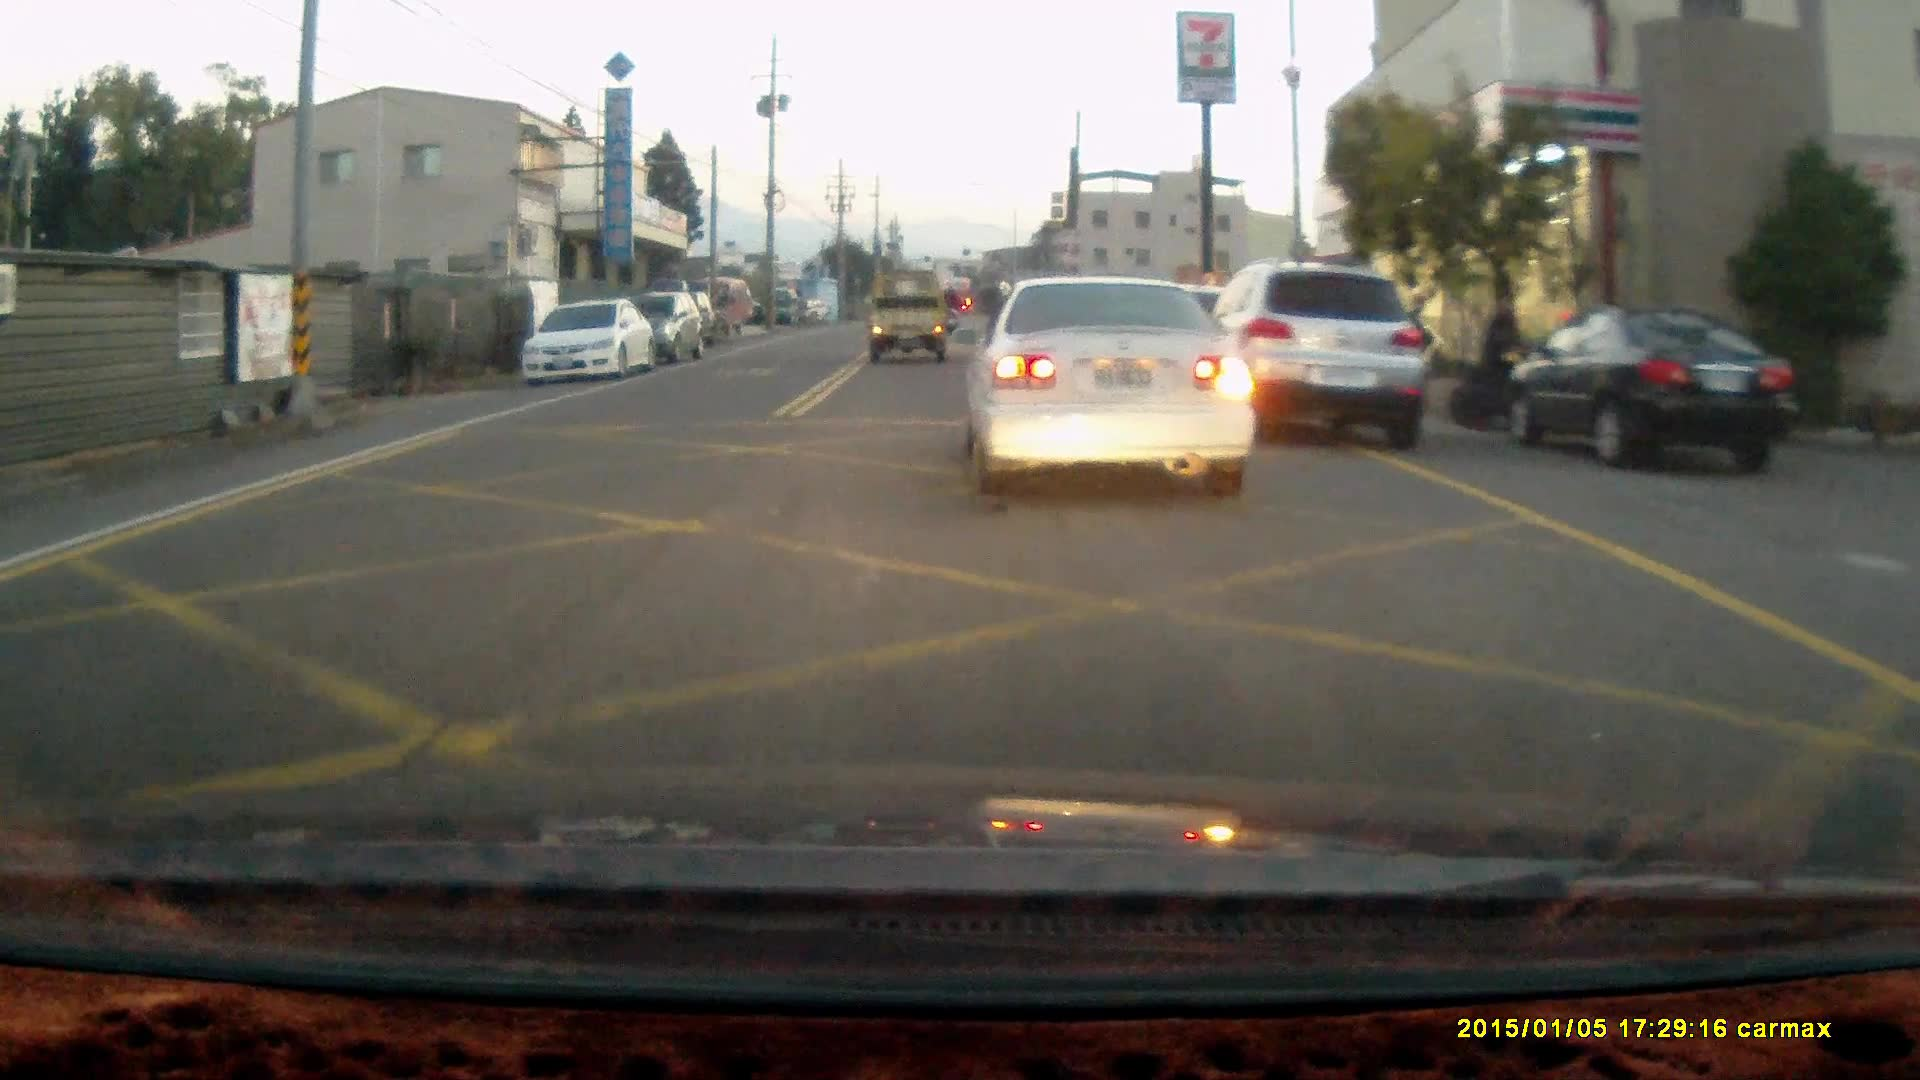rider: (1455, 297, 1553, 430), (939, 282, 965, 333)
vehicle: (964, 275, 1259, 490), (1507, 298, 1804, 470), (1204, 263, 1438, 455), (516, 294, 660, 384), (863, 271, 950, 361), (627, 295, 707, 365)
